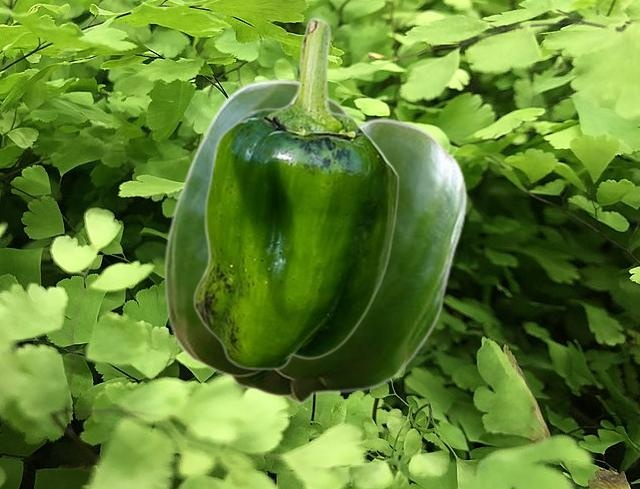bell_pepper: (163, 78, 466, 403), (192, 16, 398, 370)
